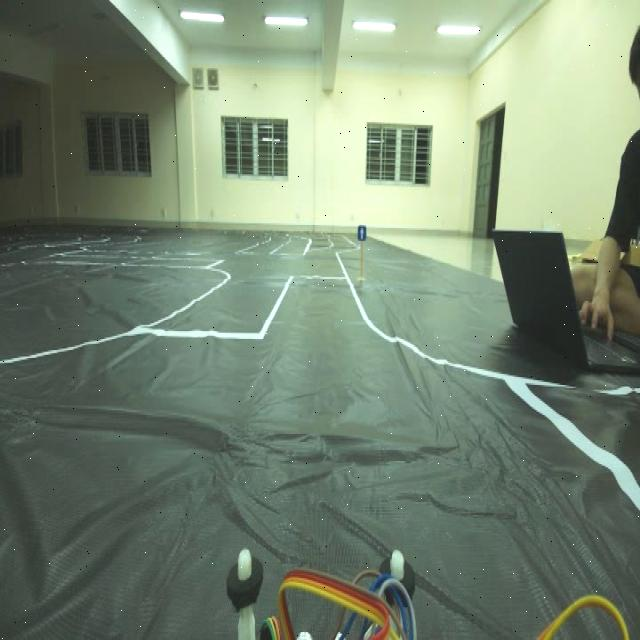onewayroad: (350, 218, 371, 246)
